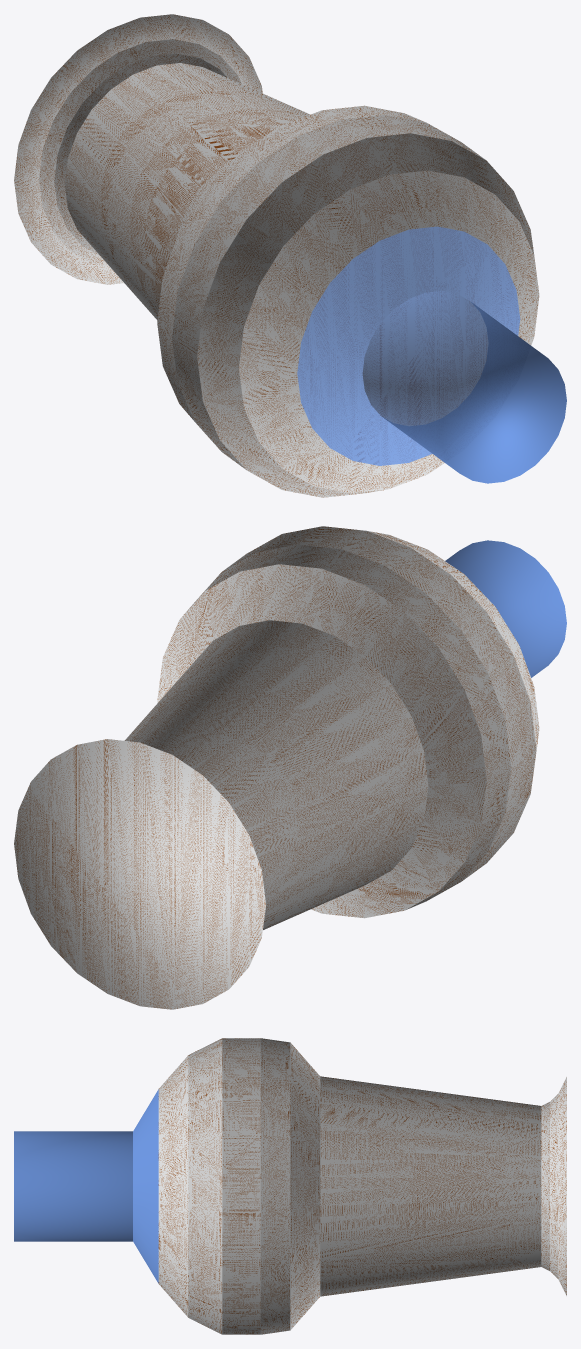
File: model_align.obj
The picture shows the model from 3 angles, top to bottom: view 1: azimuth 30°, elevation 25°; view 2: azimuth 150°, elevation 25°; view 3: azimuth 270°, elevation 25°; orthographic projection. The views are drawn at different scales.
Visible parts, largest first — view 1: mesh1_mesh1-geometry; view 2: mesh1_mesh1-geometry; view 3: mesh1_mesh1-geometry.
Boxes of the visible parts, <box> form: mesh1_mesh1-geometry: <box>14,14,566,497</box>; mesh1_mesh1-geometry: <box>14,526,566,1009</box>; mesh1_mesh1-geometry: <box>14,1038,566,1334</box>.
Bounding box in the file's own units: 0.1135 × 0.1135 × 0.2107.
